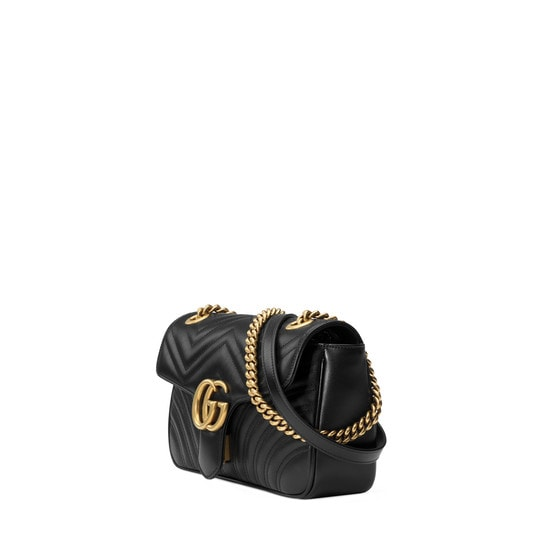Gucci: (158, 294, 409, 502), (171, 364, 244, 435)
